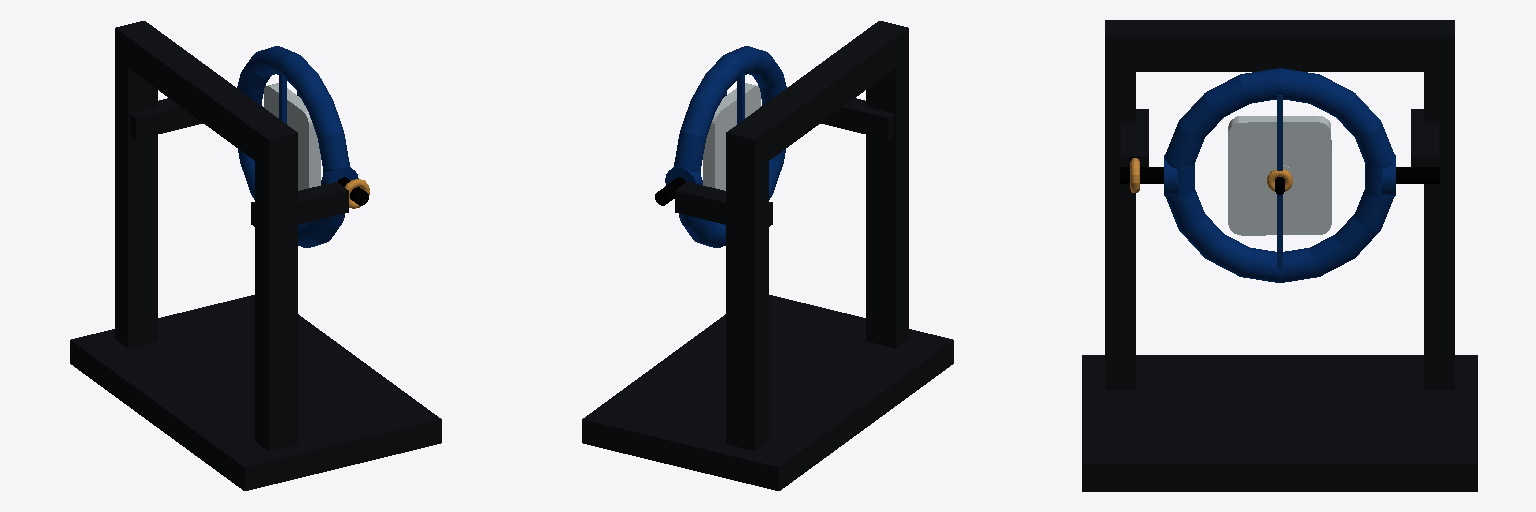
URDF robot description (bridge_pitch_roll_module):
<robot name="bridge_pitch_roll_module">
  <material name="frame_dark">
    <color rgba="0.08 0.09 0.1 1" />
    </material>
  <material name="outer_blue">
    <color rgba="0.05 0.2 0.42 1" />
    </material>
  <material name="cradle_silver">
    <color rgba="0.72 0.75 0.76 1" />
    </material>
  <material name="bearing_bronze">
    <color rgba="0.76 0.54 0.25 1" />
    </material>
  <material name="axis_black">
    <color rgba="0.02 0.02 0.022 1" />
    </material>
  <link name="rear_frame">
    <visual name="base_plate">
      <origin xyz="-0.055 0 0.0175" rpy="0 0 0" />
      <geometry>
        <box size="0.3 0.46 0.035" />
        </geometry>
      <material name="frame_dark" />
      </visual>
    <visual name="rear_post_0">
      <origin xyz="-0.13 -0.185 0.2375" rpy="0 0 0" />
      <geometry>
        <box size="0.045 0.035 0.445" />
        </geometry>
      <material name="frame_dark" />
      </visual>
    <visual name="rear_post_1">
      <origin xyz="-0.13 0.185 0.2375" rpy="0 0 0" />
      <geometry>
        <box size="0.045 0.035 0.445" />
        </geometry>
      <material name="frame_dark" />
      </visual>
    <visual name="top_bridge">
      <origin xyz="-0.13 0 0.465" rpy="0 0 0" />
      <geometry>
        <box size="0.045 0.405 0.045" />
        </geometry>
      <material name="frame_dark" />
      </visual>
    <visual name="bearing_arm_0">
      <origin xyz="-0.085 -0.168 0.36" rpy="0 0 0" />
      <geometry>
        <box size="0.13 0.032 0.032" />
        </geometry>
      <material name="frame_dark" />
      </visual>
    <visual name="pitch_bearing_0">
      <origin xyz="0 -0.168 0.36" rpy="0 0 0" />
      <geometry>
        <mesh filename="assets/meshes/pitch_bearing_0.obj" />
        </geometry>
      <material name="bearing_bronze" />
      </visual>
    <visual name="bearing_arm_1">
      <origin xyz="-0.085 0.168 0.36" rpy="0 0 0" />
      <geometry>
        <box size="0.13 0.032 0.032" />
        </geometry>
      <material name="frame_dark" />
      </visual>
    <visual name="pitch_bearing_1">
      <origin xyz="0 0.168 0.36" rpy="0 0 0" />
      <geometry>
        <mesh filename="assets/meshes/pitch_bearing_1.obj" />
        </geometry>
      <material name="bearing_bronze" />
      </visual>
    <collision name="base_plate">
      <origin xyz="-0.055 0 0.0175" rpy="0 0 0" />
      <geometry>
        <box size="0.3 0.46 0.035" />
        </geometry>
      </collision>
    <collision name="rear_post_0">
      <origin xyz="-0.13 -0.185 0.2375" rpy="0 0 0" />
      <geometry>
        <box size="0.045 0.035 0.445" />
        </geometry>
      </collision>
    <collision name="rear_post_1">
      <origin xyz="-0.13 0.185 0.2375" rpy="0 0 0" />
      <geometry>
        <box size="0.045 0.035 0.445" />
        </geometry>
      </collision>
    <collision name="top_bridge">
      <origin xyz="-0.13 0 0.465" rpy="0 0 0" />
      <geometry>
        <box size="0.045 0.405 0.045" />
        </geometry>
      </collision>
    <collision name="bearing_arm_0">
      <origin xyz="-0.085 -0.168 0.36" rpy="0 0 0" />
      <geometry>
        <box size="0.13 0.032 0.032" />
        </geometry>
      </collision>
    <collision name="pitch_bearing_0">
      <origin xyz="0 -0.168 0.36" rpy="0 0 0" />
      <geometry>
        <mesh filename="assets/meshes/pitch_bearing_0.obj" />
        </geometry>
      </collision>
    <collision name="bearing_arm_1">
      <origin xyz="-0.085 0.168 0.36" rpy="0 0 0" />
      <geometry>
        <box size="0.13 0.032 0.032" />
        </geometry>
      </collision>
    <collision name="pitch_bearing_1">
      <origin xyz="0 0.168 0.36" rpy="0 0 0" />
      <geometry>
        <mesh filename="assets/meshes/pitch_bearing_1.obj" />
        </geometry>
      </collision>
    </link>
  <link name="outer_ring">
    <visual name="ring_torus">
      <geometry>
        <mesh filename="assets/meshes/outer_ring_torus.obj" />
        </geometry>
      <material name="outer_blue" />
      </visual>
    <visual name="pitch_trunnion_0">
      <origin xyz="0 -0.158 0" rpy="1.5708 0 0" />
      <geometry>
        <cylinder radius="0.01" length="0.055" />
        </geometry>
      <material name="axis_black" />
      </visual>
    <visual name="pitch_trunnion_1">
      <origin xyz="0 0.158 0" rpy="1.5708 0 0" />
      <geometry>
        <cylinder radius="0.01" length="0.055" />
        </geometry>
      <material name="axis_black" />
      </visual>
    <visual name="side_hub_0">
      <origin xyz="0 -0.126 0" rpy="1.5708 0 0" />
      <geometry>
        <cylinder radius="0.024" length="0.016" />
        </geometry>
      <material name="outer_blue" />
      </visual>
    <visual name="side_hub_1">
      <origin xyz="0 0.126 0" rpy="1.5708 0 0" />
      <geometry>
        <cylinder radius="0.024" length="0.016" />
        </geometry>
      <material name="outer_blue" />
      </visual>
    <visual name="roll_bearing_0">
      <origin xyz="-0.014 0 0" rpy="0 0 0" />
      <geometry>
        <mesh filename="assets/meshes/roll_bearing_0.obj" />
        </geometry>
      <material name="bearing_bronze" />
      </visual>
    <visual name="roll_spoke_0_0">
      <origin xyz="-0.014 0 -0.0625" rpy="0 0 0" />
      <geometry>
        <box size="0.008 0.008 0.096" />
        </geometry>
      <material name="outer_blue" />
      </visual>
    <visual name="roll_spoke_0_1">
      <origin xyz="-0.014 0 0.0625" rpy="0 0 0" />
      <geometry>
        <box size="0.008 0.008 0.096" />
        </geometry>
      <material name="outer_blue" />
      </visual>
    <visual name="roll_bearing_1">
      <origin xyz="0.014 0 0" rpy="0 0 0" />
      <geometry>
        <mesh filename="assets/meshes/roll_bearing_1.obj" />
        </geometry>
      <material name="bearing_bronze" />
      </visual>
    <visual name="roll_spoke_1_0">
      <origin xyz="0.014 0 -0.0625" rpy="0 0 0" />
      <geometry>
        <box size="0.008 0.008 0.096" />
        </geometry>
      <material name="outer_blue" />
      </visual>
    <visual name="roll_spoke_1_1">
      <origin xyz="0.014 0 0.0625" rpy="0 0 0" />
      <geometry>
        <box size="0.008 0.008 0.096" />
        </geometry>
      <material name="outer_blue" />
      </visual>
    <collision name="ring_torus">
      <geometry>
        <mesh filename="assets/meshes/outer_ring_torus.obj" />
        </geometry>
      </collision>
    <collision name="pitch_trunnion_0">
      <origin xyz="0 -0.158 0" rpy="1.5708 0 0" />
      <geometry>
        <cylinder radius="0.01" length="0.055" />
        </geometry>
      </collision>
    <collision name="pitch_trunnion_1">
      <origin xyz="0 0.158 0" rpy="1.5708 0 0" />
      <geometry>
        <cylinder radius="0.01" length="0.055" />
        </geometry>
      </collision>
    <collision name="side_hub_0">
      <origin xyz="0 -0.126 0" rpy="1.5708 0 0" />
      <geometry>
        <cylinder radius="0.024" length="0.016" />
        </geometry>
      </collision>
    <collision name="side_hub_1">
      <origin xyz="0 0.126 0" rpy="1.5708 0 0" />
      <geometry>
        <cylinder radius="0.024" length="0.016" />
        </geometry>
      </collision>
    <collision name="roll_bearing_0">
      <origin xyz="-0.014 0 0" rpy="0 0 0" />
      <geometry>
        <mesh filename="assets/meshes/roll_bearing_0.obj" />
        </geometry>
      </collision>
    <collision name="roll_spoke_0_0">
      <origin xyz="-0.014 0 -0.0625" rpy="0 0 0" />
      <geometry>
        <box size="0.008 0.008 0.096" />
        </geometry>
      </collision>
    <collision name="roll_spoke_0_1">
      <origin xyz="-0.014 0 0.0625" rpy="0 0 0" />
      <geometry>
        <box size="0.008 0.008 0.096" />
        </geometry>
      </collision>
    <collision name="roll_bearing_1">
      <origin xyz="0.014 0 0" rpy="0 0 0" />
      <geometry>
        <mesh filename="assets/meshes/roll_bearing_1.obj" />
        </geometry>
      </collision>
    <collision name="roll_spoke_1_0">
      <origin xyz="0.014 0 -0.0625" rpy="0 0 0" />
      <geometry>
        <box size="0.008 0.008 0.096" />
        </geometry>
      </collision>
    <collision name="roll_spoke_1_1">
      <origin xyz="0.014 0 0.0625" rpy="0 0 0" />
      <geometry>
        <box size="0.008 0.008 0.096" />
        </geometry>
      </collision>
    </link>
  <link name="inner_cradle">
    <visual name="cradle_frame">
      <geometry>
        <mesh filename="assets/meshes/inner_cradle_frame.obj" />
        </geometry>
      <material name="cradle_silver" />
      </visual>
    <visual name="roll_axle">
      <origin xyz="0 0 0" rpy="0 1.5708 0" />
      <geometry>
        <cylinder radius="0.006" length="0.08" />
        </geometry>
      <material name="axis_black" />
      </visual>
    <visual name="central_hub">
      <origin xyz="0 0 0" rpy="0 1.5708 0" />
      <geometry>
        <cylinder radius="0.018" length="0.02" />
        </geometry>
      <material name="cradle_silver" />
      </visual>
    <visual name="hub_spoke">
      <geometry>
        <box size="0.018 0.09 0.012" />
        </geometry>
      <material name="cradle_silver" />
      </visual>
    <collision name="cradle_frame">
      <geometry>
        <mesh filename="assets/meshes/inner_cradle_frame.obj" />
        </geometry>
      </collision>
    <collision name="roll_axle">
      <origin xyz="0 0 0" rpy="0 1.5708 0" />
      <geometry>
        <cylinder radius="0.006" length="0.08" />
        </geometry>
      </collision>
    <collision name="central_hub">
      <origin xyz="0 0 0" rpy="0 1.5708 0" />
      <geometry>
        <cylinder radius="0.018" length="0.02" />
        </geometry>
      </collision>
    <collision name="hub_spoke">
      <geometry>
        <box size="0.018 0.09 0.012" />
        </geometry>
      </collision>
    </link>
  <joint name="pitch_axis" type="revolute">
    <origin xyz="0 0 0.36" rpy="0 0 0" />
    <parent link="rear_frame" />
    <child link="outer_ring" />
    <axis xyz="0 1 0" />
    <limit effort="12" velocity="1.8" lower="-0.55" upper="0.55" />
    </joint>
  <joint name="roll_axis" type="revolute">
    <parent link="outer_ring" />
    <child link="inner_cradle" />
    <axis xyz="1 0 0" />
    <limit effort="6" velocity="2" lower="-0.7" upper="0.7" />
    </joint>
  </robot>

--- Facts derived from the render (not from the file) ---
Views: 3 orthographic renders of the robot side by side, from view 1: azimuth 30°, elevation 25°; view 2: azimuth 150°, elevation 25°; view 3: azimuth 270°, elevation 25°.
Model bridge_pitch_roll_module with 3 links and 2 joints (2 revolute), rooted at rear_frame, posed every joint at zero.
Visible links, largest first — view 1: rear_frame, outer_ring, inner_cradle; view 2: rear_frame, outer_ring, inner_cradle; view 3: rear_frame, outer_ring, inner_cradle.
Boxes of the visible links, bbox=[...] form: rear_frame: bbox=[70, 21, 441, 490]; outer_ring: bbox=[237, 46, 368, 247]; inner_cradle: bbox=[264, 83, 320, 190]; rear_frame: bbox=[582, 21, 953, 490]; outer_ring: bbox=[655, 46, 786, 247]; inner_cradle: bbox=[703, 83, 760, 190]; rear_frame: bbox=[1082, 20, 1477, 491]; outer_ring: bbox=[1120, 68, 1439, 282]; inner_cradle: bbox=[1228, 116, 1331, 235].
Bounding box of the posed robot: 0.3 × 0.46 × 0.496 m (x, y, z).
4 mesh visuals loaded from 6 distinct referenced files (4 OBJ); not drawn: 2 (reference not matched to a file when rendering).
